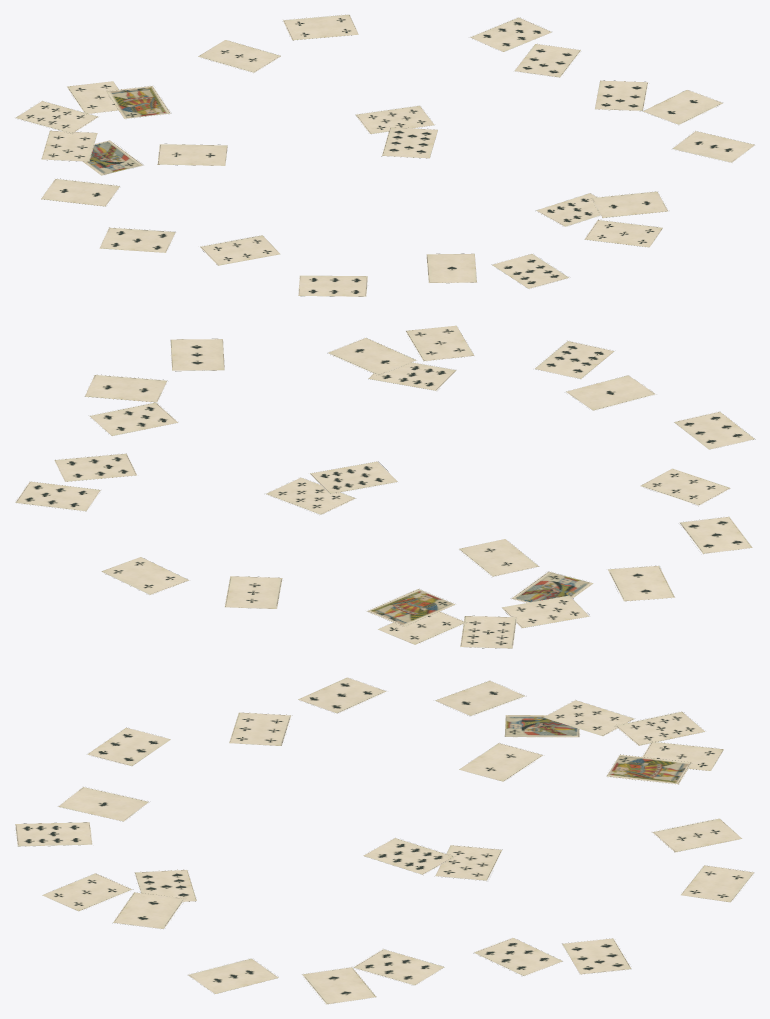
File: CardsOnTable_mdl.fbx
The picture shows the model from 3 angles, top to bottom: view 1: azimuth 30°, elevation 25°; view 2: azimuth 150°, elevation 25°; view 3: azimuth 270°, elevation 25°; orthographic projection. The views are drawn at different scales.
Parts seen in each view (by area): view 1: CardsOnTable; view 2: CardsOnTable; view 3: CardsOnTable.
Part boxes in pixels (x1,y1,x2,y2): CardsOnTable: (15,14,754,296); CardsOnTable: (15,325,755,648); CardsOnTable: (15,677,754,1004).
Size of the model in its own units: 111 by 0.4473 by 105.
